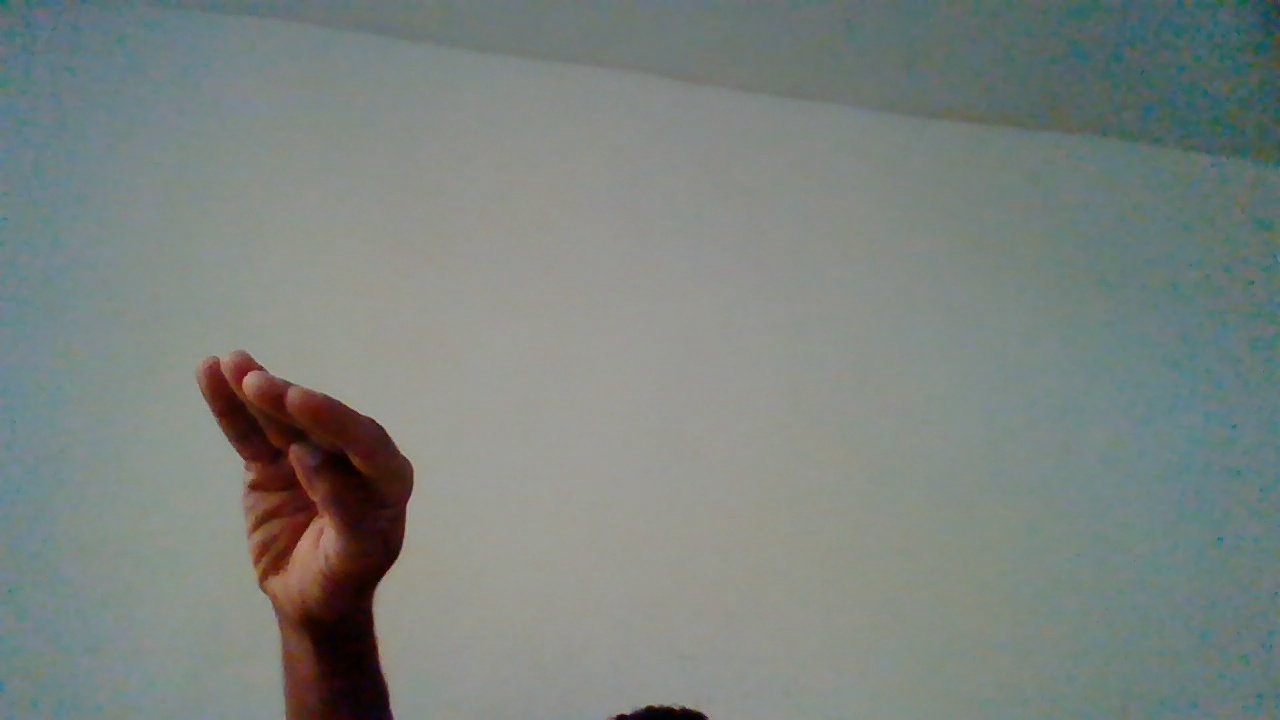me: (196, 348, 420, 720)
